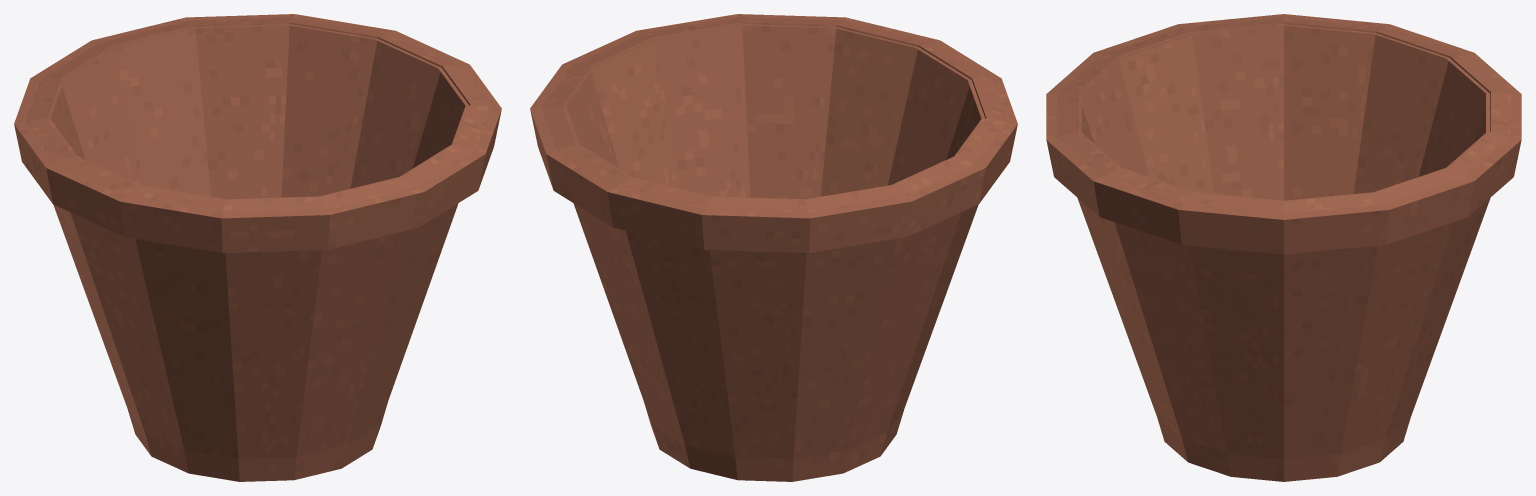
Rendered from clay_pot_flower.glb.
3 renders of one model, left to right at view 1: azimuth 30°, elevation 25°; view 2: azimuth 150°, elevation 25°; view 3: azimuth 270°, elevation 25°, orthographic.
Parts seen in each view (by area): view 1: block_open vessel, block_rolled flowerpot lip; view 2: block_open vessel, block_rolled flowerpot lip; view 3: block_open vessel, block_rolled flowerpot lip.
Part boxes in pixels (x1,y1,x2,y2): block_open vessel: (25,17,490,481); block_rolled flowerpot lip: (14,14,501,253); block_open vessel: (541,17,1006,481); block_rolled flowerpot lip: (530,14,1017,253); block_open vessel: (1057,17,1510,481); block_rolled flowerpot lip: (1046,14,1521,254).
Size of the model in its own units: 0.2552 by 0.1837 by 0.2488.
Materials: 1 (1 with a texture image).
